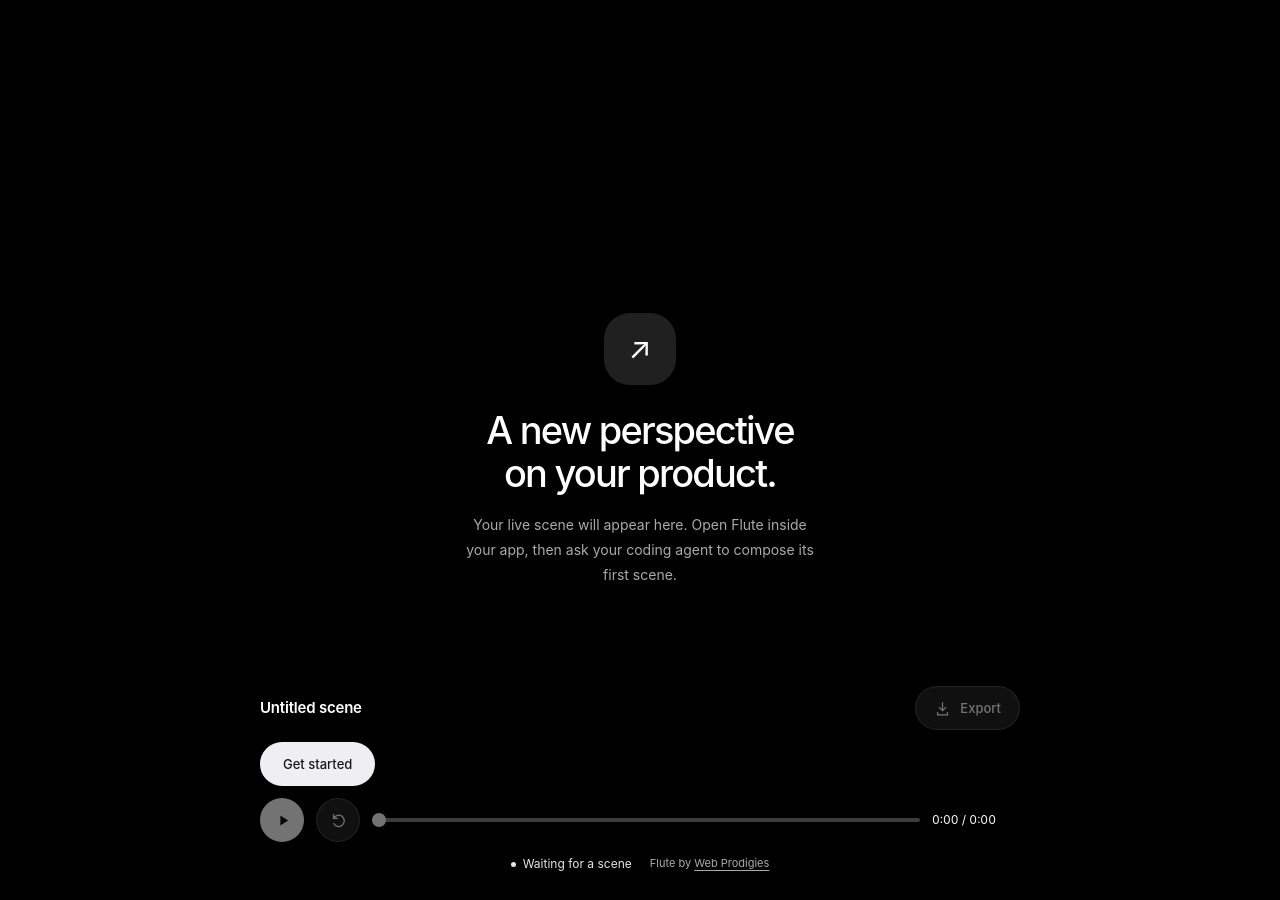
Test: shares installed instructions and recovers clipboard failure in each empty entry
Click the heading "Get started" at (318, 764), box [260,742,375,786]
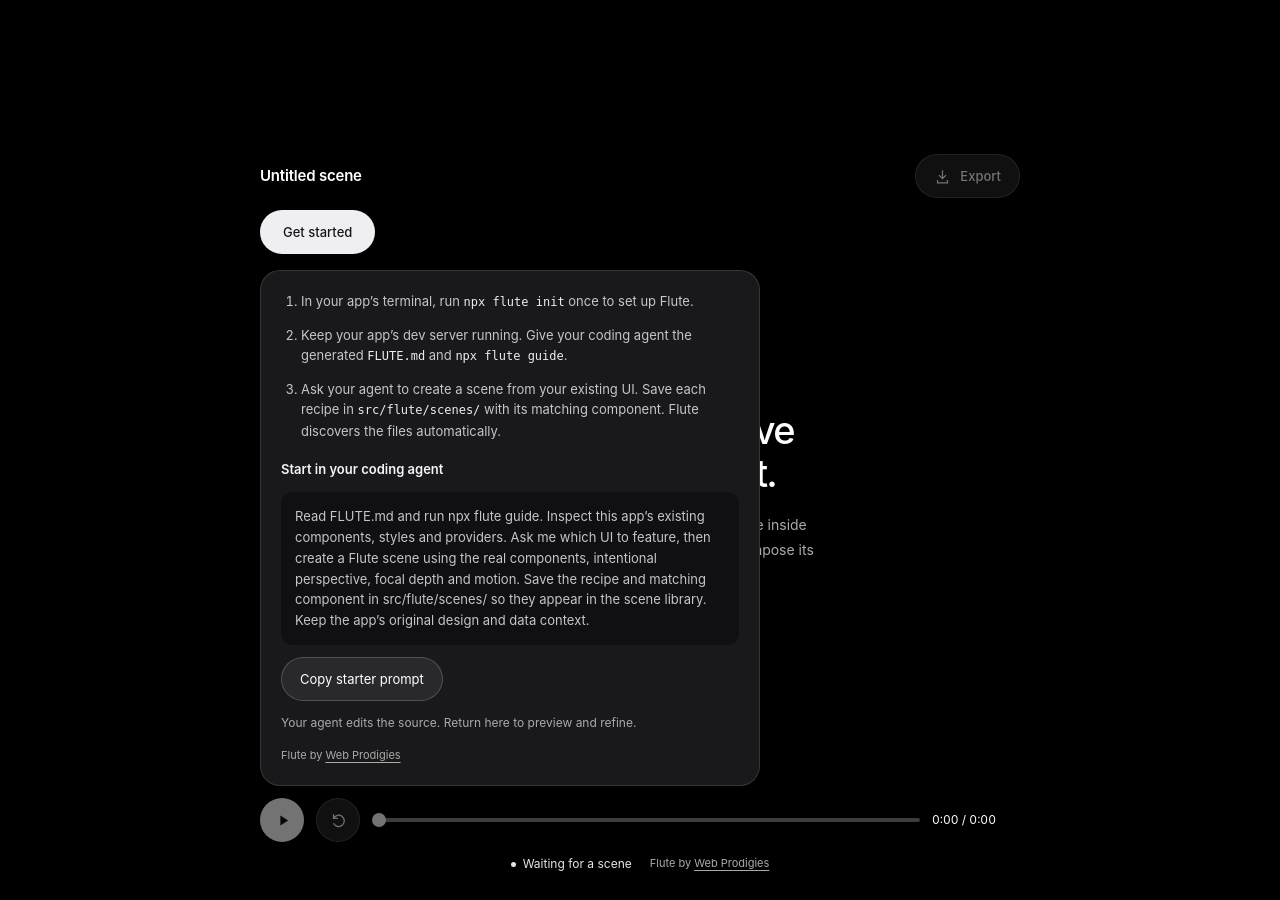
Now the element with class "flute-onboarding-content" shows "npx flute init", box [464,296,565,310]
Now the element with class "flute-onboarding-content" shows "npx flute guide", box [455,350,564,364]
Now the element with class "flute-onboarding-content" shows "FLUTE.md", box [367,350,425,364]
Click the button "Copy starter prompt" at (362, 679), box [281,657,443,701]
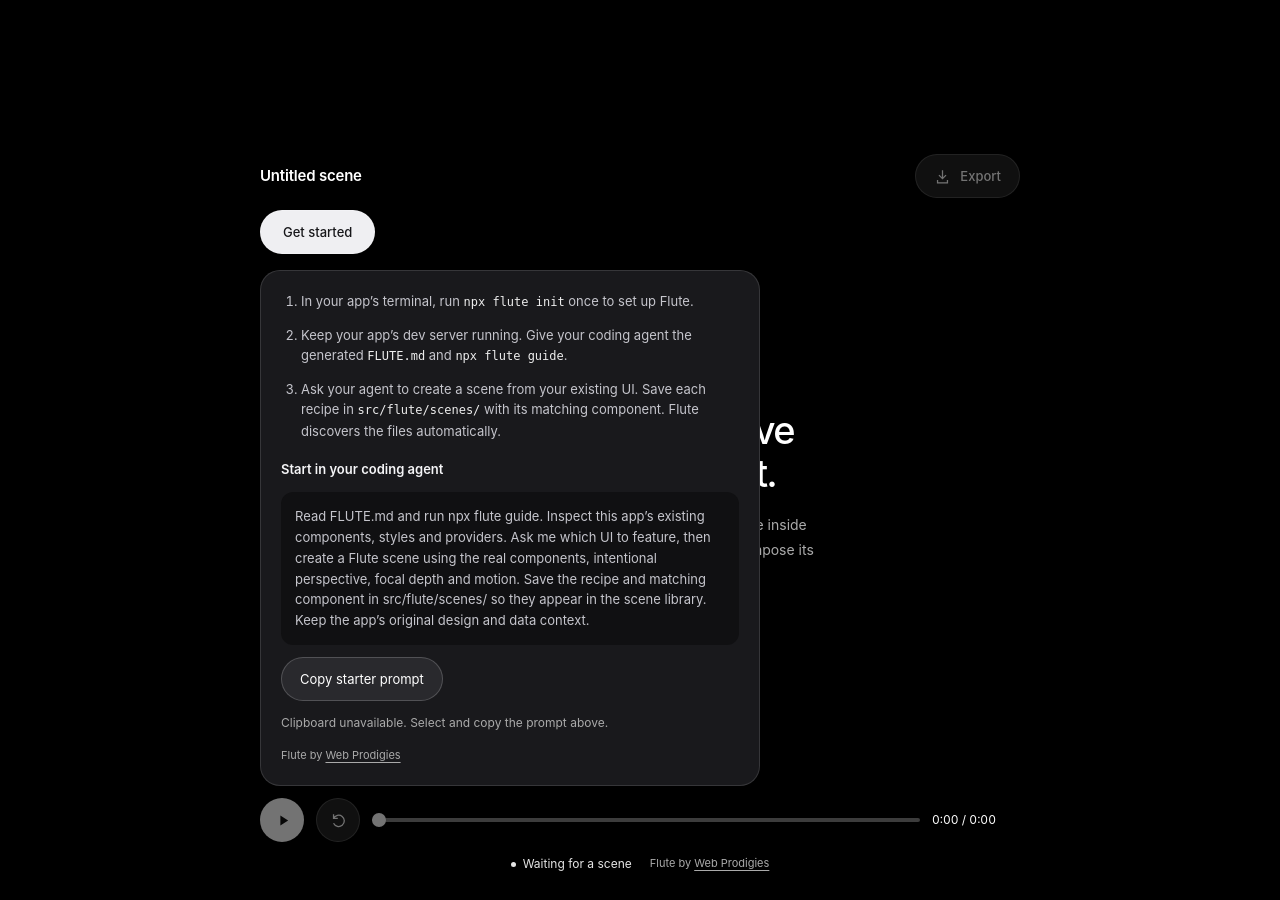
Now the text with class "flute-prompt" shows "Read FLUTE.md and run npx flute guide. Inspect this app’s existing components, styles and providers. Ask me which UI to feature, then create a Flute scene using", box [295,508,711,628]
Now the message "Clipboard unavailable. Select and copy the prompt above." is shown, box [281,715,608,730]
Click the button "Copy starter prompt" at (362, 679), box [281,657,443,701]
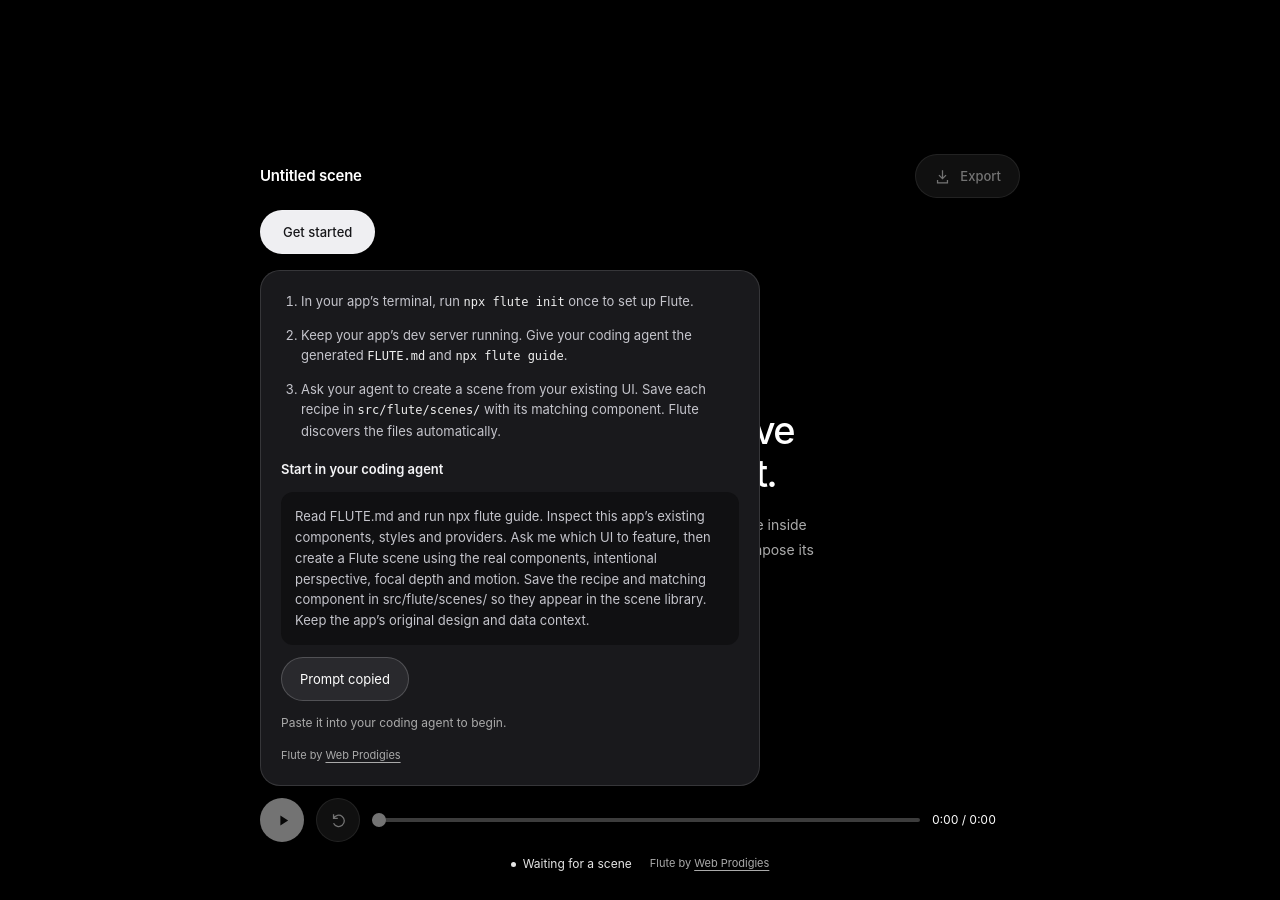
Now the text with class "flute-prompt" shows "existing components", box [295,508,711,628]
Now the button "Prompt copied" is shown, box [281,657,409,701]
